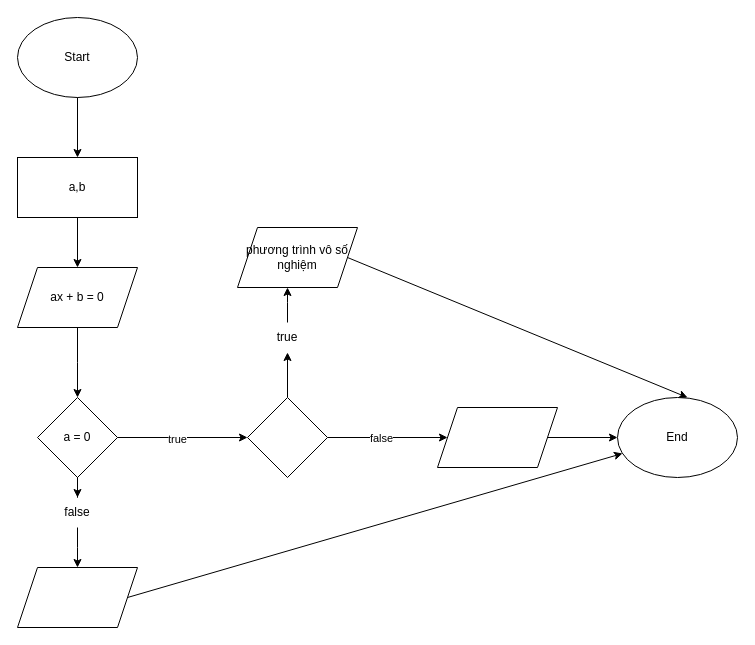
The diagram is 755 pixels wide and 645 high, and some of its shapes have lost their labels. The box of each missing label's shape, as (x1, y1, x2, y2) in pixels:
b = 0: (246, 396, 328, 478)
phương trình có nghiệm là -b/a: (16, 566, 138, 628)
phương trình vô nghiệm: (436, 406, 558, 468)
